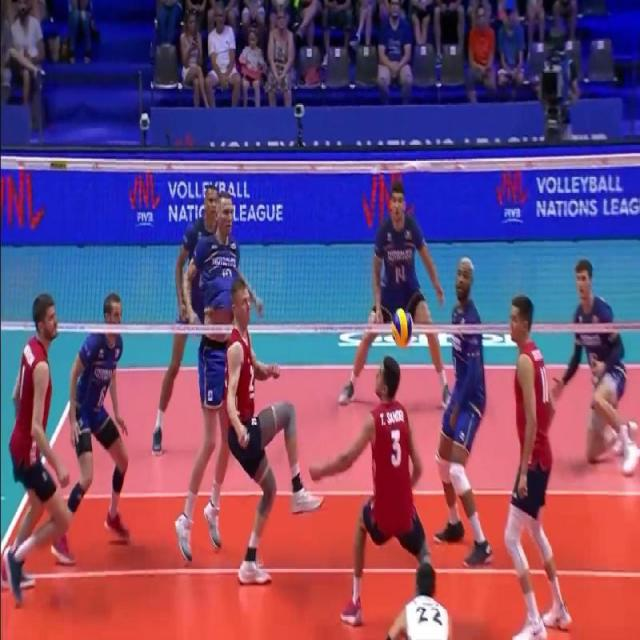volleyball: (392, 308, 412, 347)
